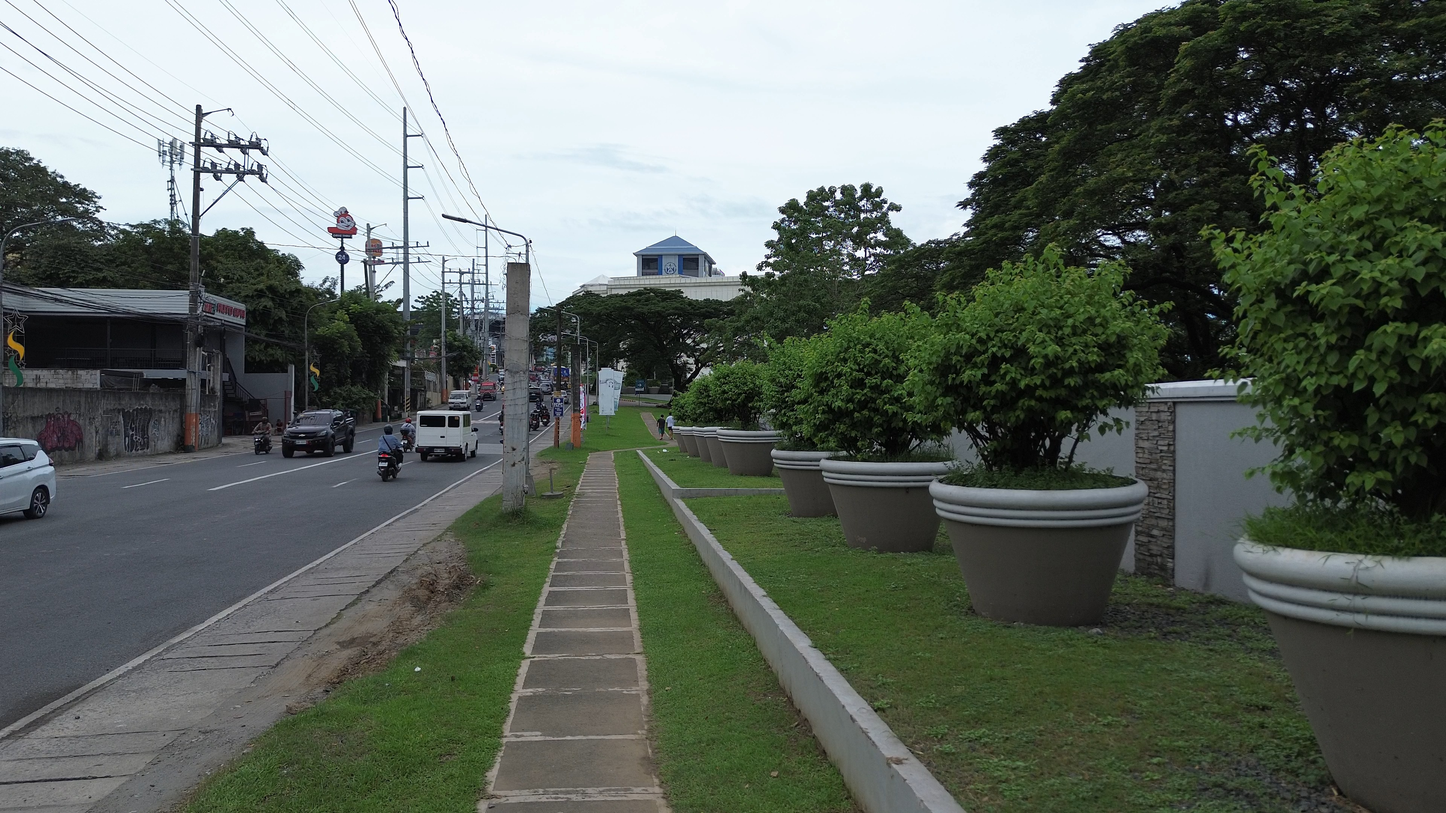motorcycle: (377, 452, 399, 481), (253, 433, 272, 454)
vehicle: (0, 438, 56, 518), (282, 410, 355, 457), (416, 410, 479, 460), (448, 390, 473, 411), (532, 403, 551, 426), (479, 382, 498, 400), (528, 388, 544, 403)
